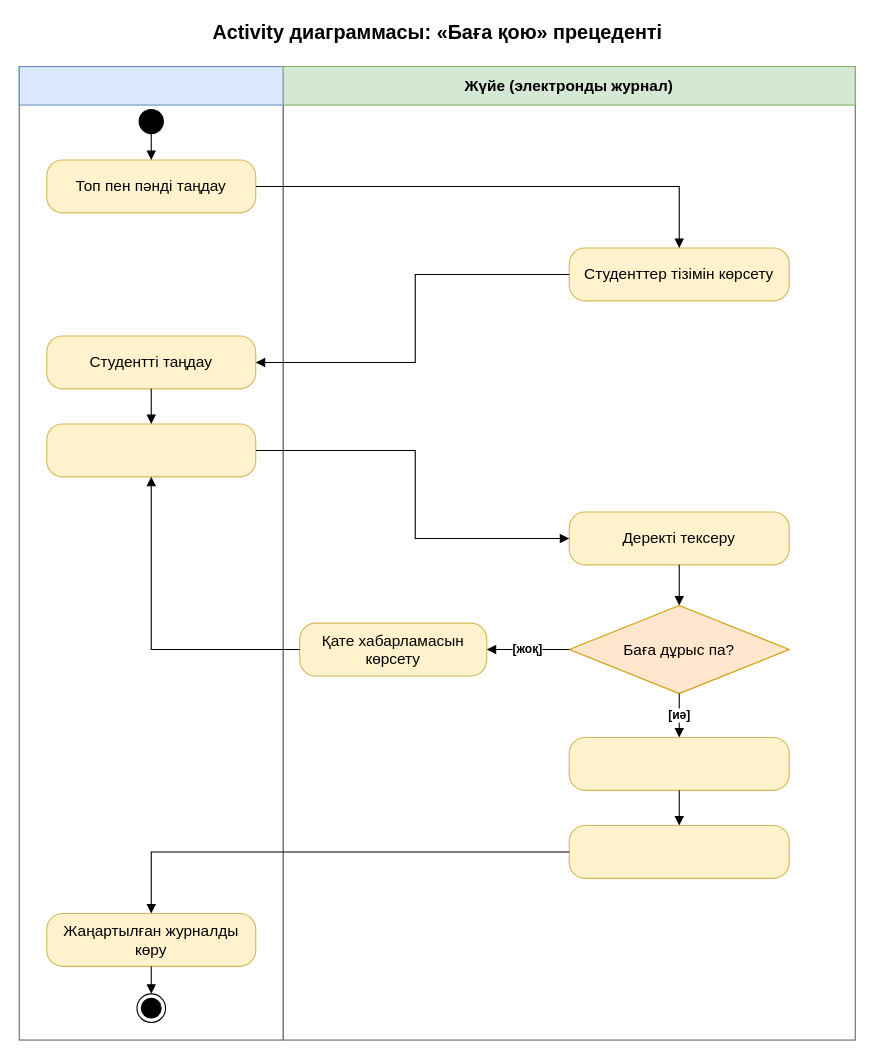
This 875x1059 diagram has some shape labels left out. Here are the shapes that lost their labels. From the top down, the box of each, then its label:
(18, 65, 283, 105): Оқытушы (актор)
(46, 423, 256, 477): Баға енгізу
(568, 736, 789, 790): Бағаны сақтау
(568, 824, 789, 878): Студентке хабарлама жіберу
